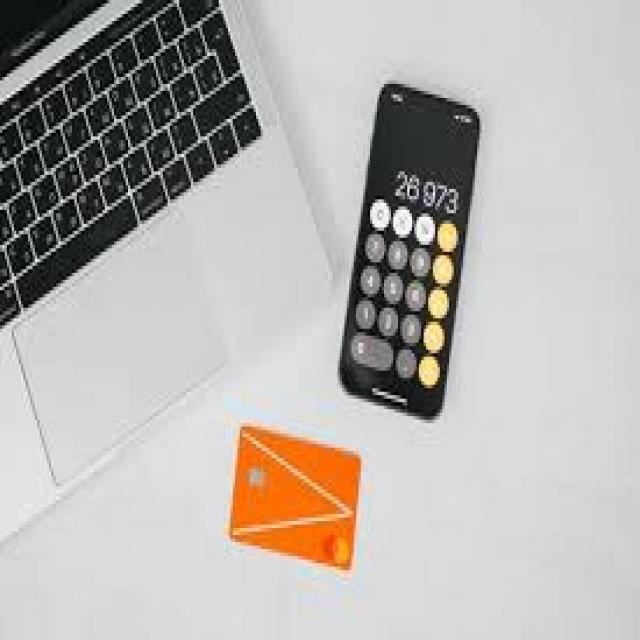Calculator: (338, 80, 482, 423)
